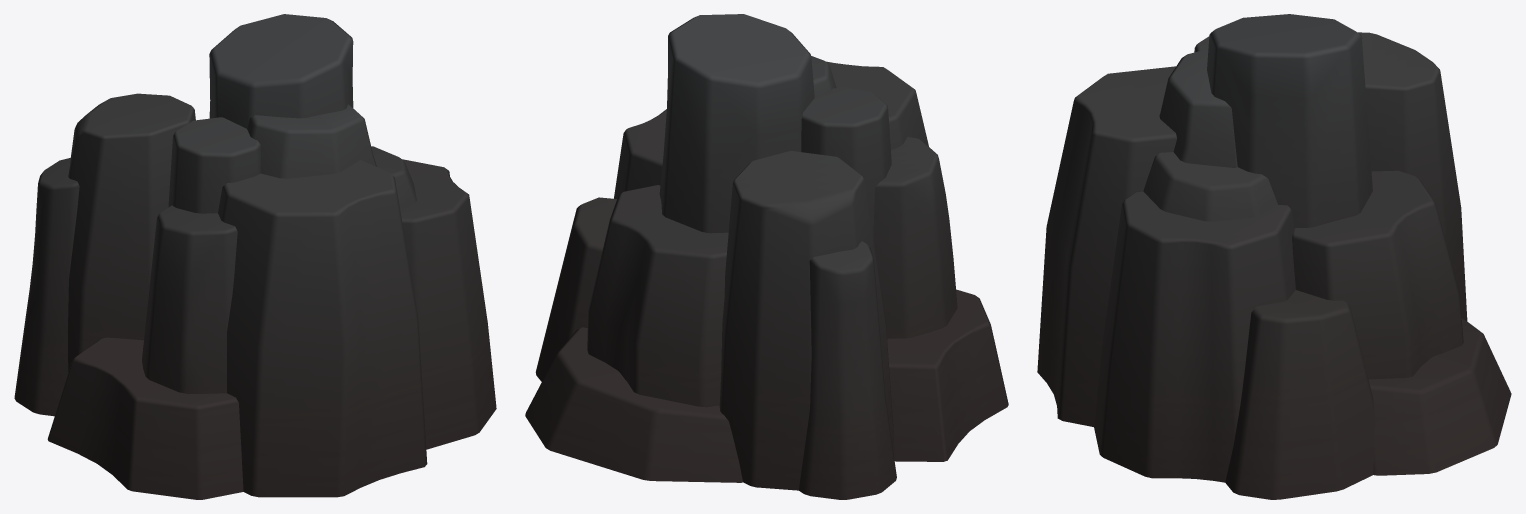
The model's file is inferno-rock-big-003.glb.
3 renders of one model, left to right at view 1: azimuth 30°, elevation 25°; view 2: azimuth 150°, elevation 25°; view 3: azimuth 270°, elevation 25°, orthographic. The views are drawn at different scales.
Visible parts, largest first — view 1: RockBig_003; view 2: RockBig_003; view 3: RockBig_003.
Part boxes in pixels (box(x1,y1,x2,y2)): RockBig_003: box(14, 14, 496, 499); RockBig_003: box(525, 14, 1008, 499); RockBig_003: box(1037, 14, 1511, 499).
Bounding box in the file's own units: 30.84 × 25.46 × 29.09.
Materials: 1 (1 with a texture image).
